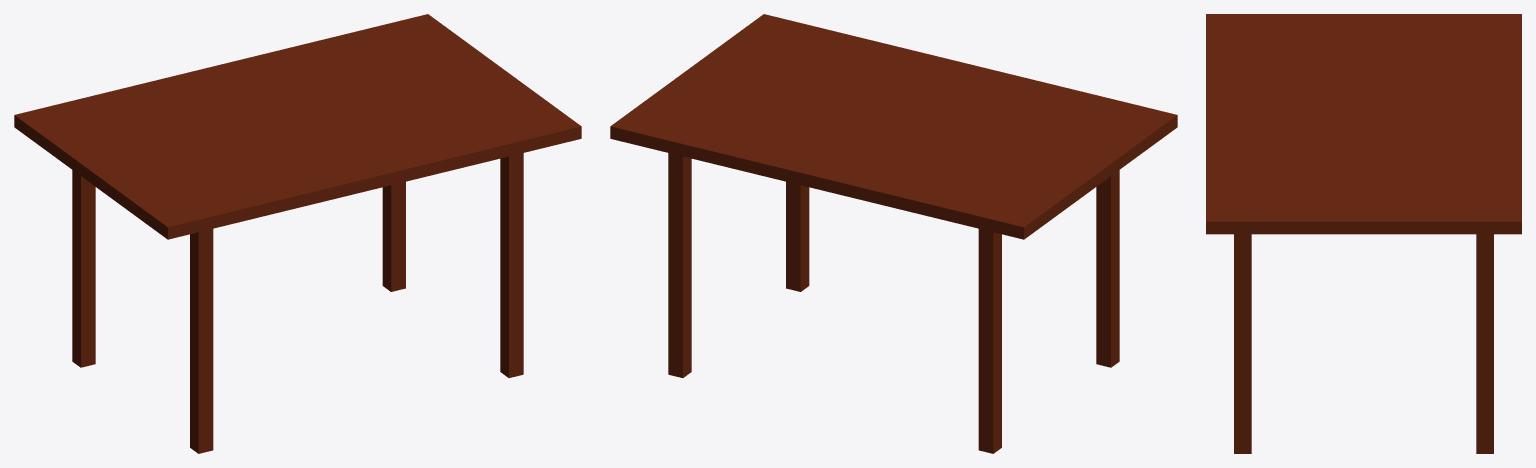
The model's file is Tisch.fbx.
3 renders of one model, left to right at view 1: azimuth 30°, elevation 25°; view 2: azimuth 150°, elevation 25°; view 3: azimuth 270°, elevation 25°, orthographic. The views are drawn at different scales.
Parts seen in each view (by area): view 1: Tisch; view 2: Tisch; view 3: Tisch.
Boxes of the visible parts, left/top/right/bottom form: Tisch: left=14, top=14, right=581, bottom=453; Tisch: left=610, top=14, right=1177, bottom=453; Tisch: left=1206, top=14, right=1521, bottom=453.
Bounding box in the file's own units: 140 × 80 × 90.
